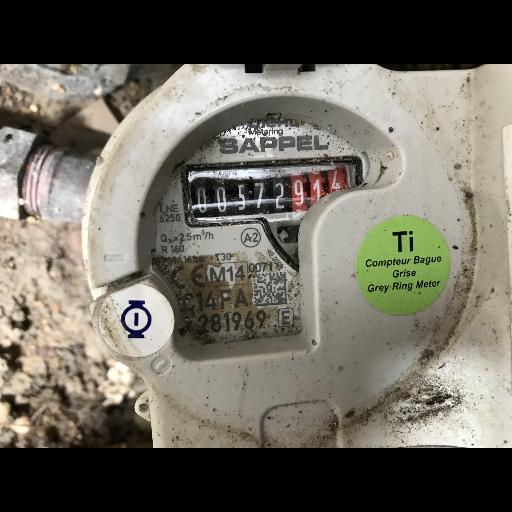0: (191, 176, 216, 218), (213, 177, 236, 217)
1: (309, 171, 331, 206)
2: (272, 177, 294, 214)
4: (327, 167, 349, 194)
5: (233, 179, 255, 216)
7: (252, 179, 274, 216)
9: (291, 174, 312, 213)
border_water_meter_number: (181, 153, 366, 228)
